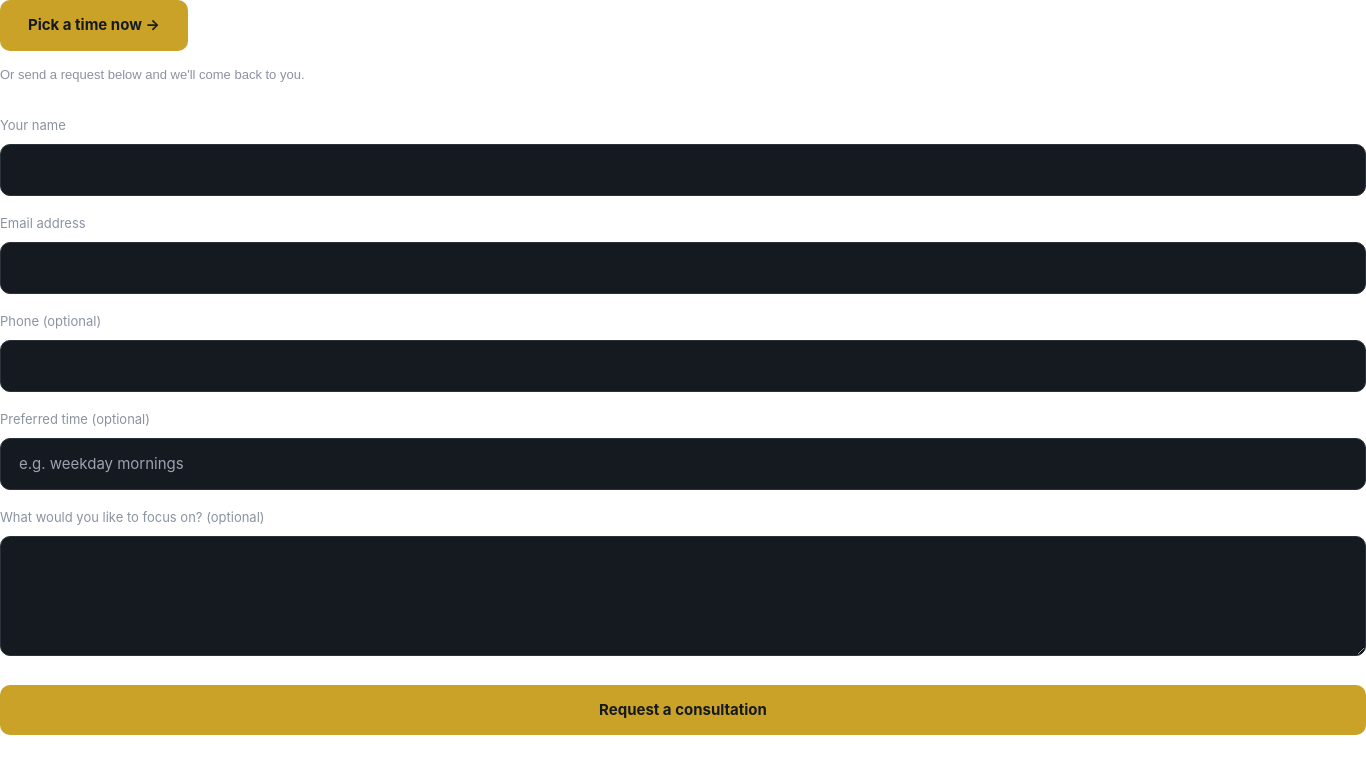
ConsultationForm › surfaces a server error and keeps the form open for retry
Type "Jane" into the field labelled "Your name" at [683, 170], box x1=0 y1=144 x2=1365 y2=196
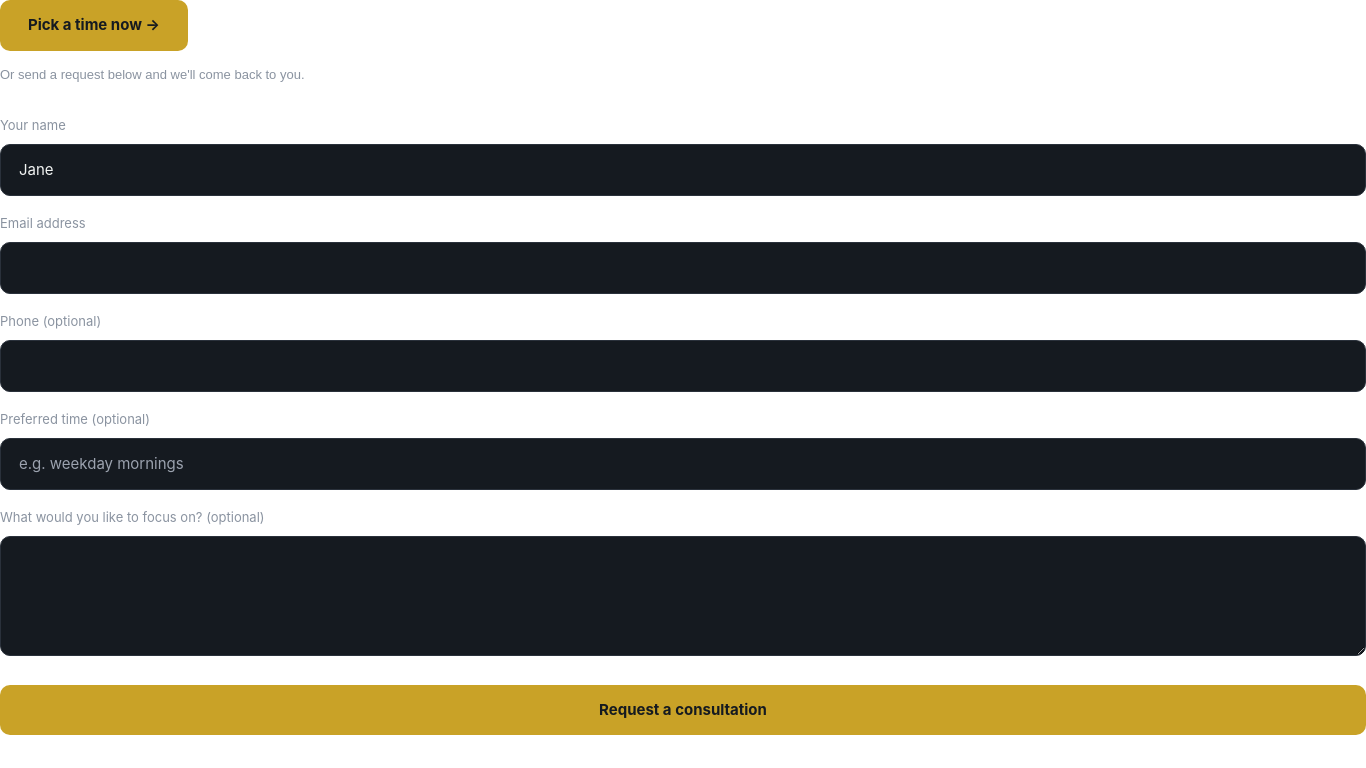
Type "jane@acme.com" into the field labelled "Email address" at [683, 268], box x1=0 y1=242 x2=1365 y2=294
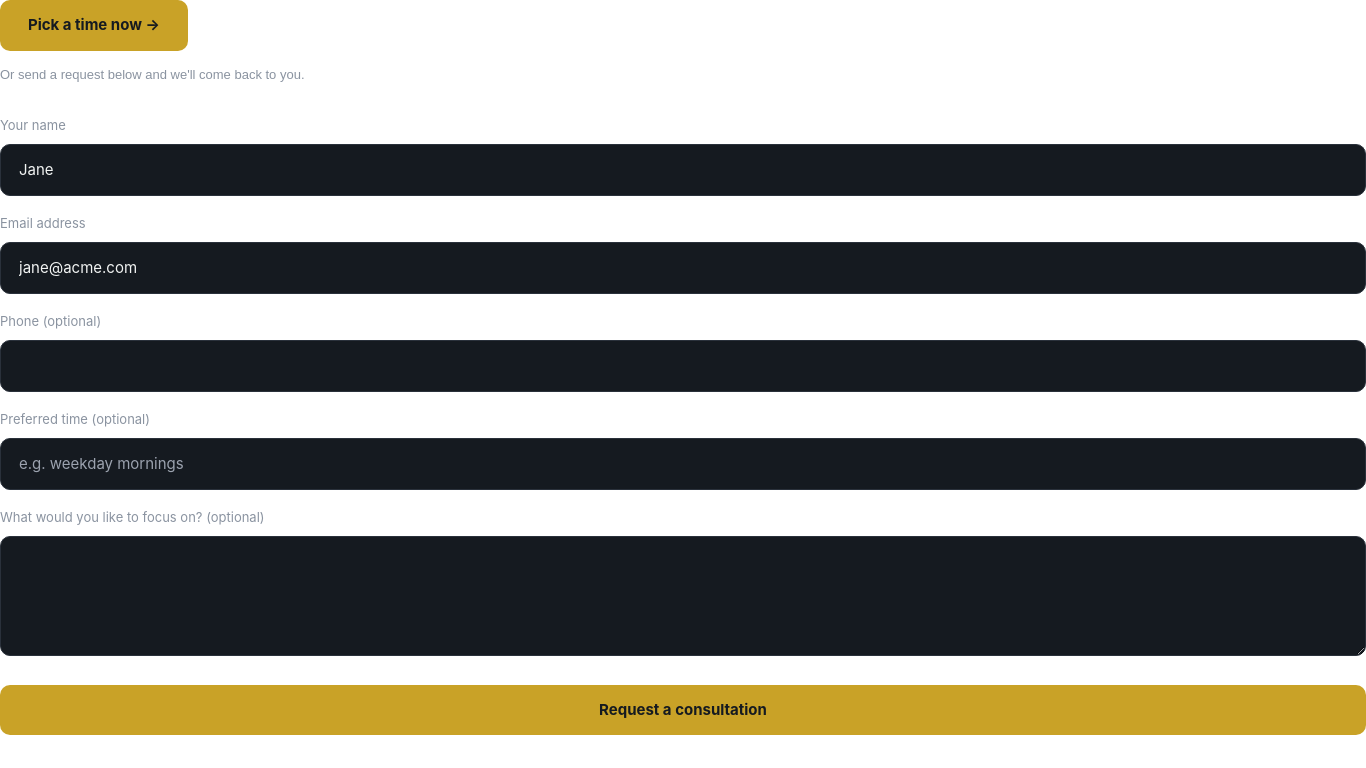
Click the button "Request a consultation" at [683, 710], box x1=0 y1=684 x2=1365 y2=735
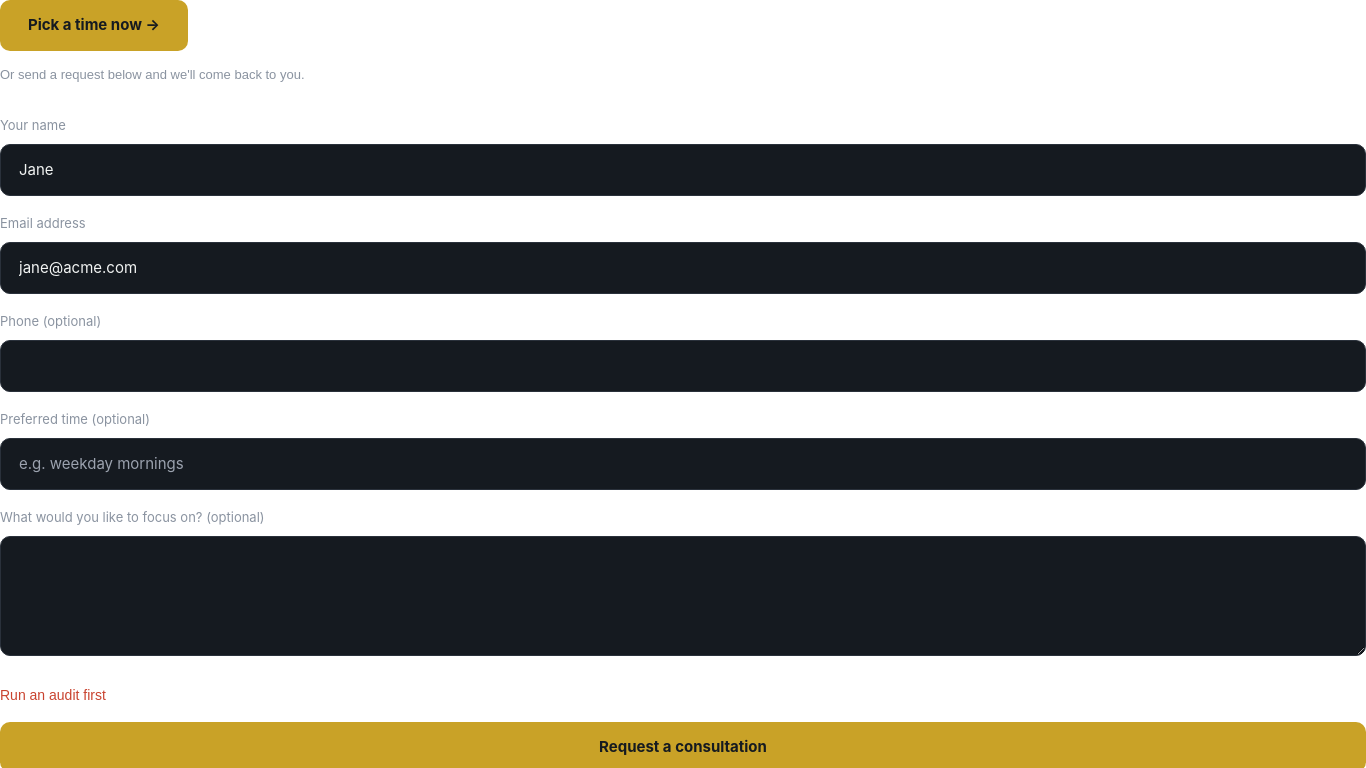
Now the message reads "Run an audit first", box x1=0 y1=686 x2=106 y2=702
